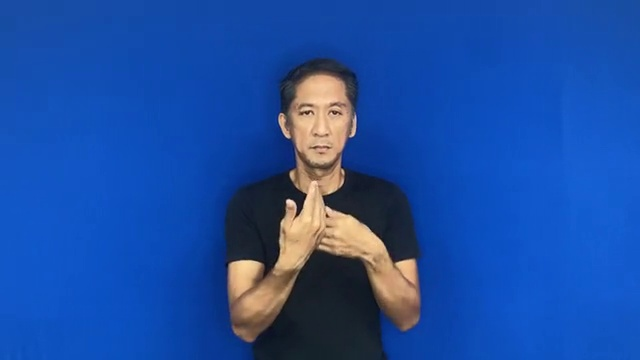bread: (263, 171, 390, 289)
